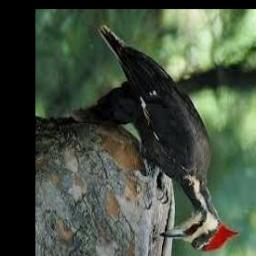Woodpecker: (97, 27, 239, 251)
